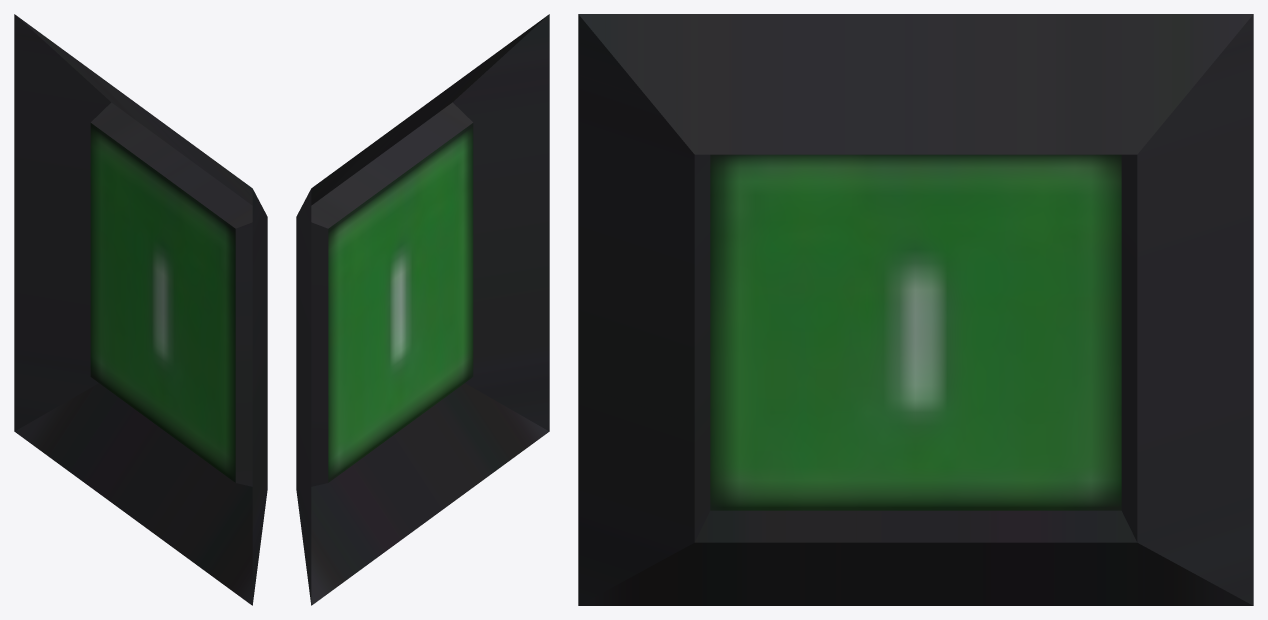
The model's file is cell_kesici_gosterge.fbx.
The picture shows the model from 3 angles, left to right: view 1: azimuth 30°, elevation 25°; view 2: azimuth 150°, elevation 25°; view 3: azimuth 270°, elevation 25°; orthographic projection. The views are drawn at different scales.
Visible parts, largest first — view 1: pano_kesici_acik; view 2: pano_kesici_acik; view 3: pano_kesici_acik.
Boxes of the visible parts, x1,y1,x2,y2 form: pano_kesici_acik: [14, 14, 267, 605]; pano_kesici_acik: [296, 14, 549, 605]; pano_kesici_acik: [578, 14, 1253, 605].
Bounding box in the file's own units: 0.064 × 0.4726 × 0.457.
1 material, 1 textured.
